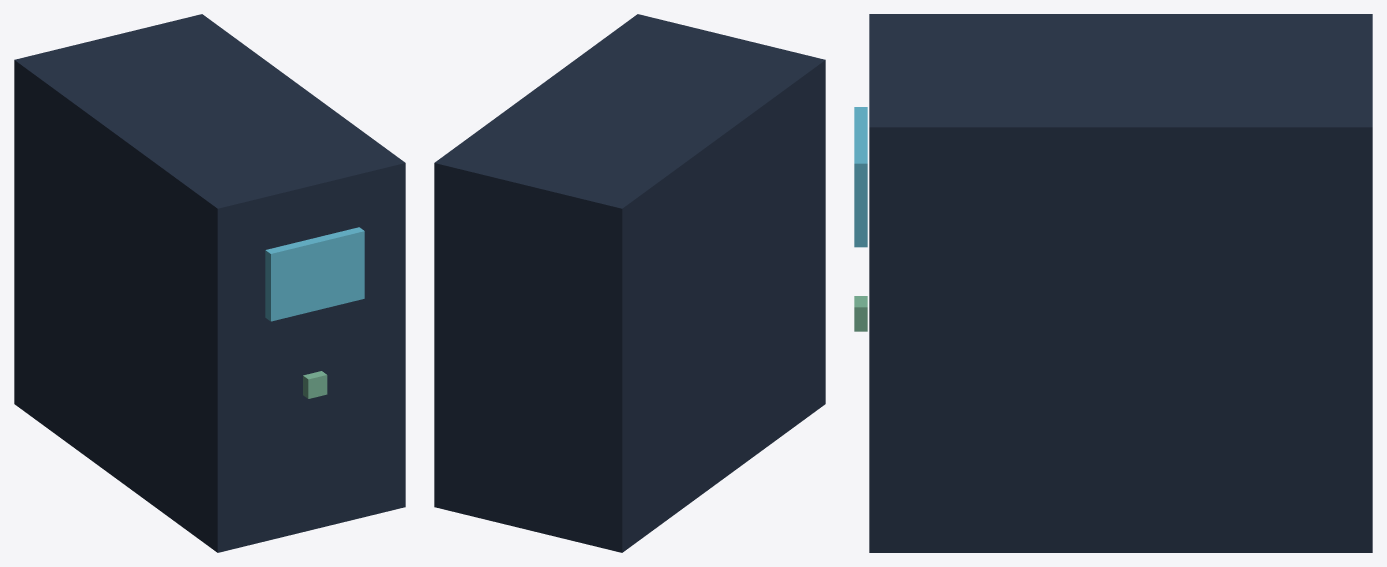
File: officeUps.glb
3 views of the same model, side by side, from view 1: azimuth 30°, elevation 25°; view 2: azimuth 150°, elevation 25°; view 3: azimuth 270°, elevation 25° (orthographic). The views are drawn at different scales.
Bounding box in the file's own units: 0.16 × 0.28 × 0.309.
